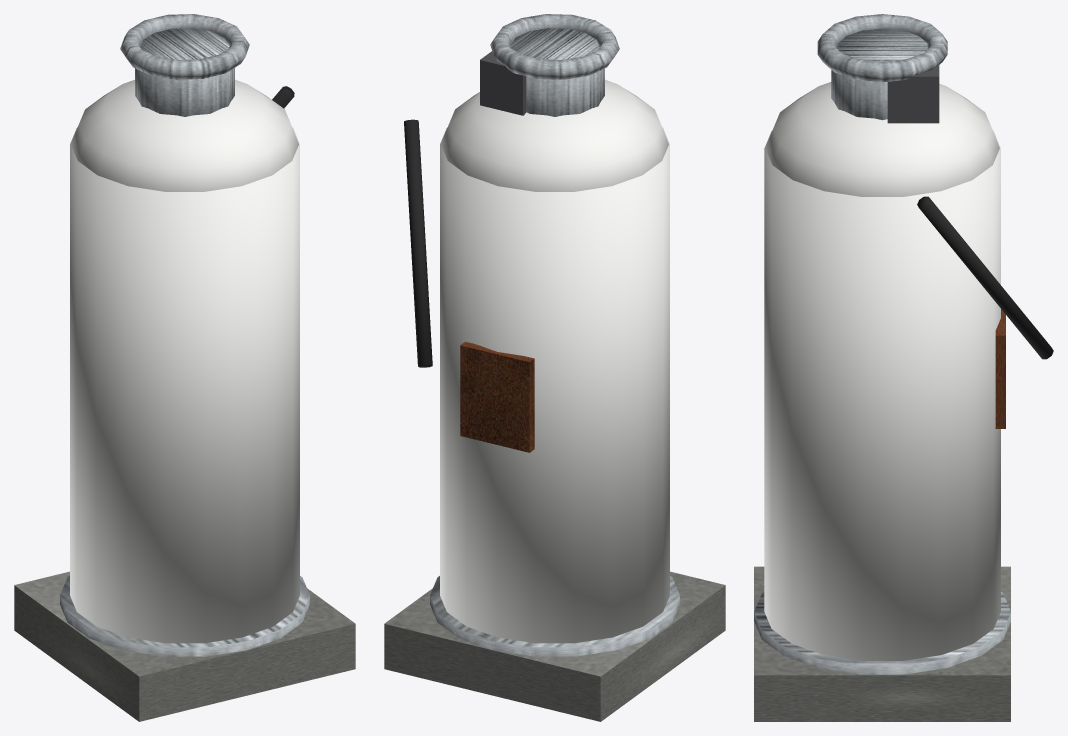
File: WK_STR_PropaneTank.glb
The picture shows the model from 3 angles, left to right: view 1: azimuth 30°, elevation 25°; view 2: azimuth 150°, elevation 25°; view 3: azimuth 270°, elevation 25°; orthographic projection. The views are drawn at different scales.
Visible parts, largest first — view 1: WK_STR_PropaneTank_P01, WK_STR_PropaneTank_P08, WK_STR_PropaneTank_P02, WK_STR_PropaneTank_P04, WK_STR_PropaneTank_P05, WK_STR_PropaneTank_P03; view 2: WK_STR_PropaneTank_P01, WK_STR_PropaneTank_P08, WK_STR_PropaneTank_P02, WK_STR_PropaneTank_P09, WK_STR_PropaneTank_P04, WK_STR_PropaneTank_P05, WK_STR_PropaneTank_P03, WK_STR_PropaneTank_P07, WK_STR_PropaneTank_P06; view 3: WK_STR_PropaneTank_P01, WK_STR_PropaneTank_P02, WK_STR_PropaneTank_P08, WK_STR_PropaneTank_P05, WK_STR_PropaneTank_P03, WK_STR_PropaneTank_P04, WK_STR_PropaneTank_P07, WK_STR_PropaneTank_P06, WK_STR_PropaneTank_P09.
Boxes of the visible parts, x1,y1,x2,y2 form: WK_STR_PropaneTank_P01: [70, 127, 299, 643]; WK_STR_PropaneTank_P08: [14, 571, 355, 721]; WK_STR_PropaneTank_P02: [71, 79, 298, 191]; WK_STR_PropaneTank_P04: [135, 28, 234, 116]; WK_STR_PropaneTank_P05: [120, 14, 249, 79]; WK_STR_PropaneTank_P03: [60, 576, 309, 656]; WK_STR_PropaneTank_P01: [440, 127, 669, 643]; WK_STR_PropaneTank_P08: [384, 571, 725, 721]; WK_STR_PropaneTank_P02: [441, 79, 668, 191]; WK_STR_PropaneTank_P09: [460, 341, 534, 452]; WK_STR_PropaneTank_P04: [510, 28, 604, 116]; WK_STR_PropaneTank_P05: [490, 14, 619, 79]; WK_STR_PropaneTank_P03: [430, 576, 679, 656]; WK_STR_PropaneTank_P07: [404, 119, 432, 367]; WK_STR_PropaneTank_P06: [480, 51, 526, 115]; WK_STR_PropaneTank_P01: [764, 131, 1000, 660]; WK_STR_PropaneTank_P02: [765, 82, 999, 196]; WK_STR_PropaneTank_P08: [754, 566, 1010, 721]; WK_STR_PropaneTank_P05: [817, 14, 947, 82]; WK_STR_PropaneTank_P03: [754, 591, 1010, 674]; WK_STR_PropaneTank_P04: [831, 28, 927, 120]; WK_STR_PropaneTank_P07: [917, 196, 1053, 359]; WK_STR_PropaneTank_P06: [887, 64, 939, 123]; WK_STR_PropaneTank_P09: [995, 309, 1005, 428].
Size of the model in its own units: 0.5493 by 1.35 by 0.583.
6 materials, 3 textured.
